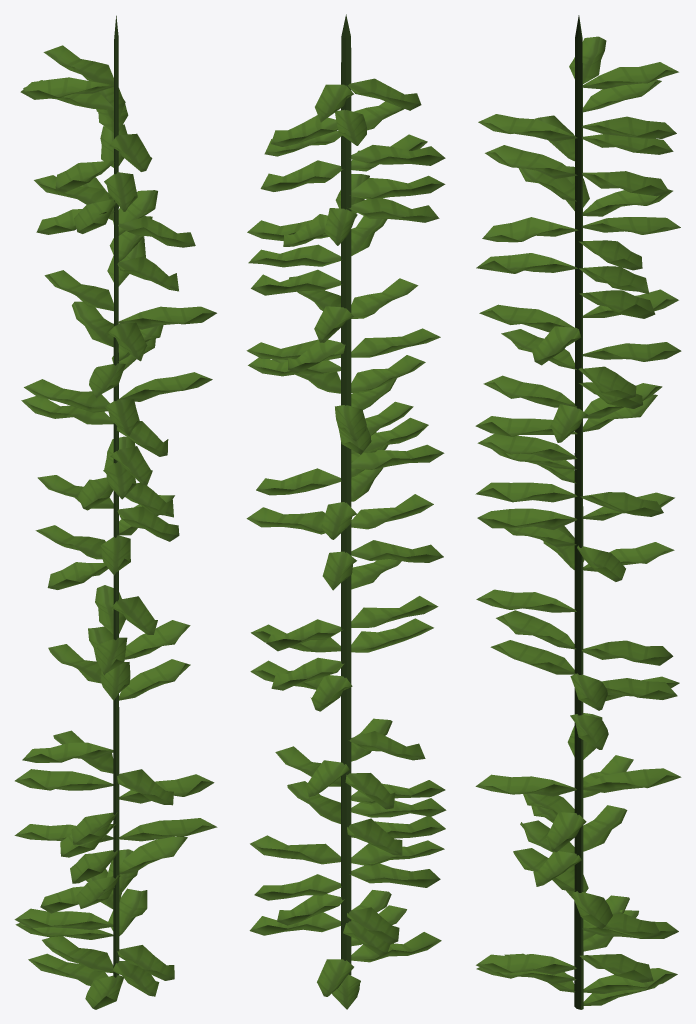
Rendered from Kelp3.fbx.
3 views of the same model, side by side, from view 1: azimuth 30°, elevation 25°; view 2: azimuth 150°, elevation 25°; view 3: azimuth 270°, elevation 25° (orthographic). The views are drawn at different scales.
Parts seen in each view (by area): view 1: Circle.030; view 2: Circle.030; view 3: Circle.030.
Boxes of the visible parts, x1,y1,x2,y2 form: Circle.030: [14, 15, 217, 1009]; Circle.030: [246, 14, 446, 1009]; Circle.030: [475, 15, 681, 1009].
Size of the model in its own units: 1155 by 6214 by 1167.
